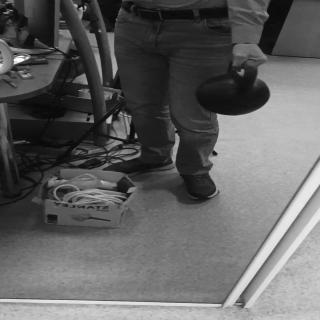kettlebell: (197, 58, 269, 118)
